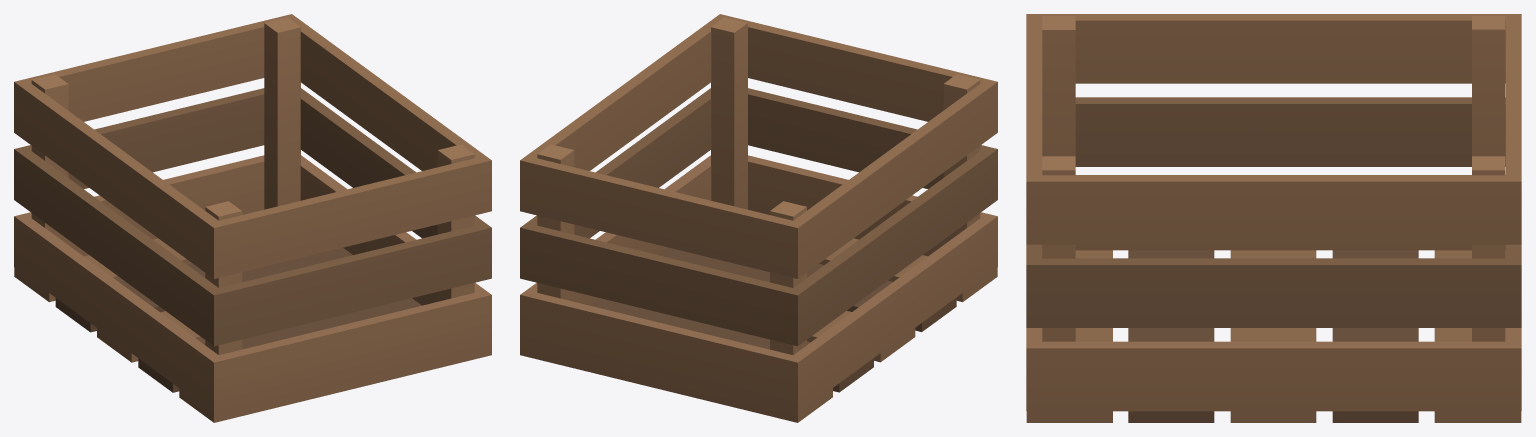
3 views of the same model, side by side, from view 1: azimuth 30°, elevation 25°; view 2: azimuth 150°, elevation 25°; view 3: azimuth 270°, elevation 25° (orthographic). The views are drawn at different scales.
Parts seen in each view (by area): view 1: box 3; view 2: box 3; view 3: box 3.
Boxes of the visible parts, <box> form: box 3: <box>14,14,491,422</box>; box 3: <box>520,14,997,422</box>; box 3: <box>1026,14,1521,422</box>.
Size of the model in its own units: 0.901 by 0.6163 by 1.12.
Materials: 1 (1 with a texture image).
